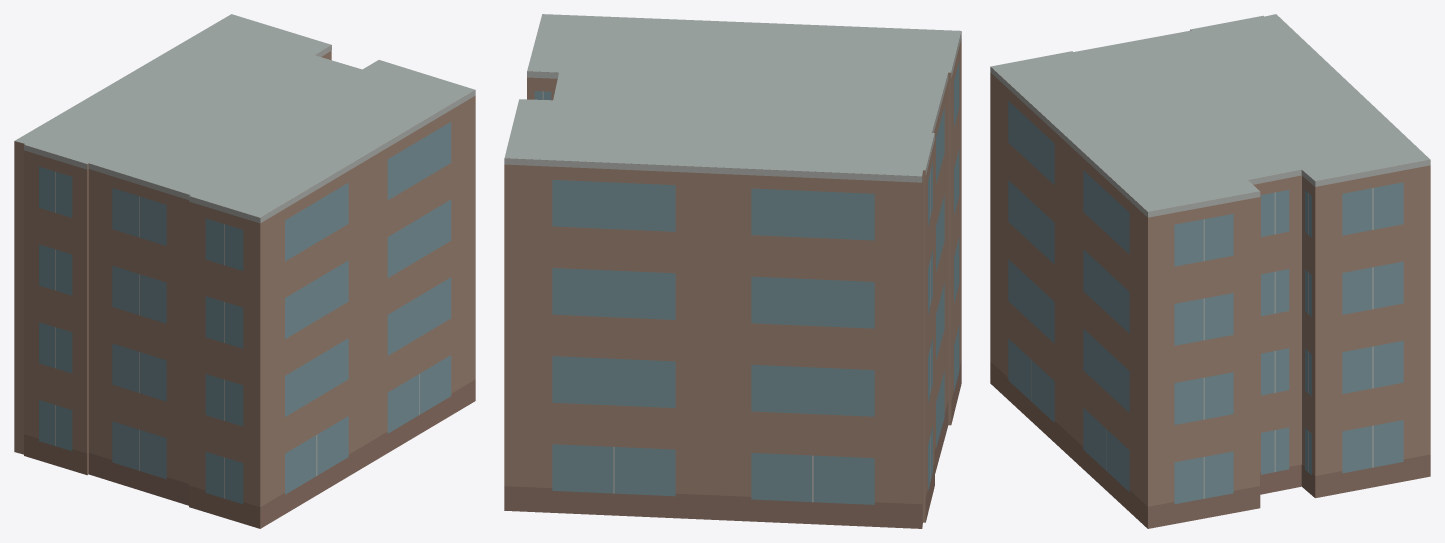
Rendered from survey-upis-32730115.glb.
3 renders of one model, left to right at view 1: azimuth 30°, elevation 25°; view 2: azimuth 150°, elevation 25°; view 3: azimuth 270°, elevation 25°, orthographic. The views are drawn at different scales.
Visible parts, largest first — view 1: survey-upis-32730115.tmp; view 2: survey-upis-32730115.tmp; view 3: survey-upis-32730115.tmp.
Boxes of the visible parts, x1=… form: survey-upis-32730115.tmp: x1=14, y1=14, x2=475, y2=528; survey-upis-32730115.tmp: x1=504, y1=14, x2=961, y2=528; survey-upis-32730115.tmp: x1=990, y1=14, x2=1430, y2=528.
Size of the model in its own units: 18.23 by 13.6 by 17.13.
